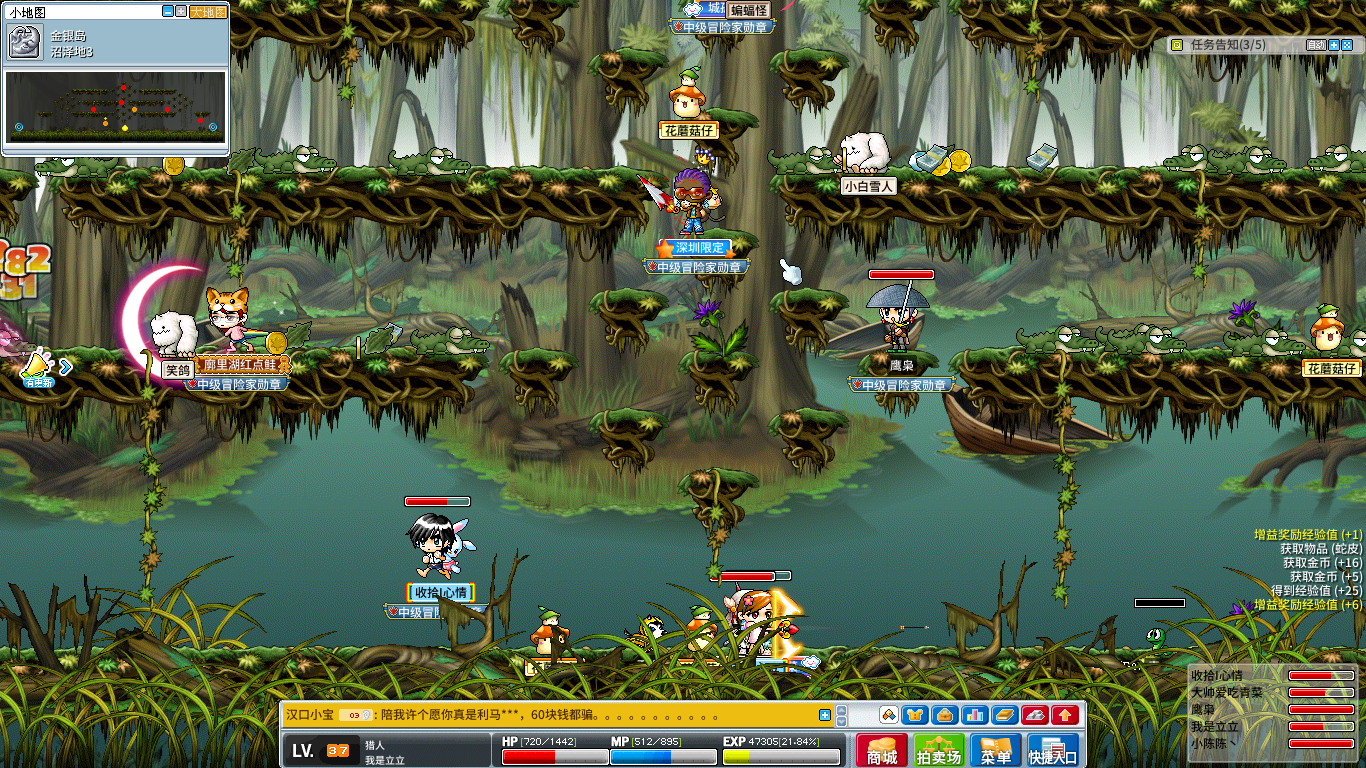monster: (1147, 628, 1173, 655)
